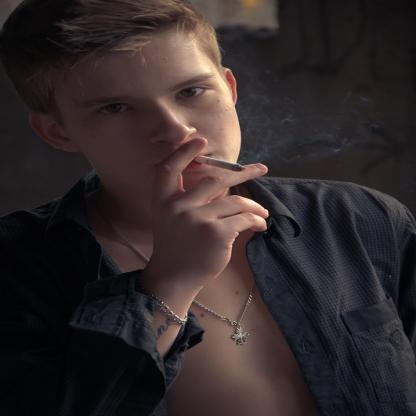smoking: (193, 154, 246, 172)
